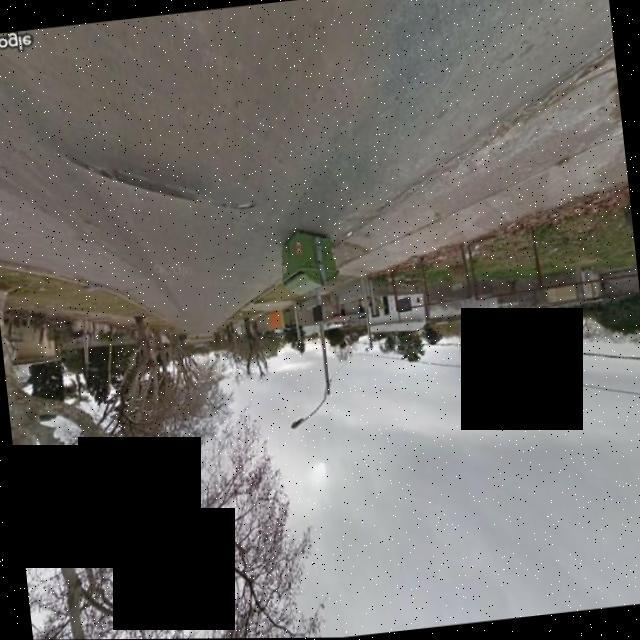bin: (266, 211, 355, 300)
